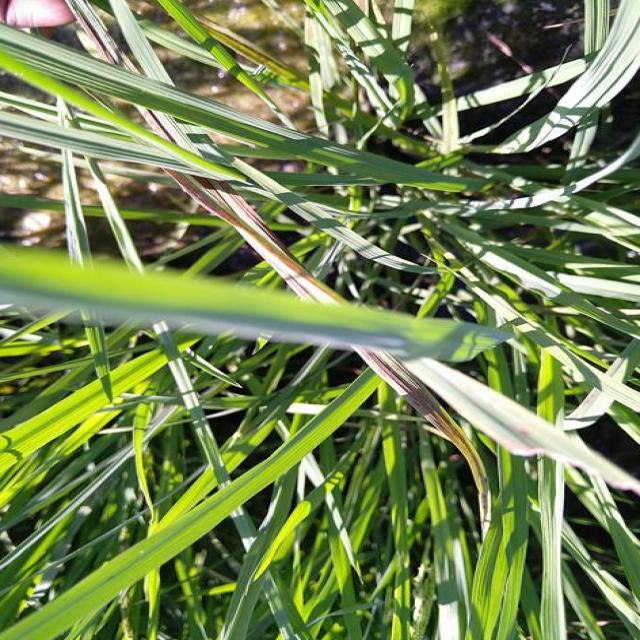Leaf Streak: (361, 349, 489, 528), (171, 171, 342, 302), (65, 0, 129, 68), (133, 105, 184, 146)
